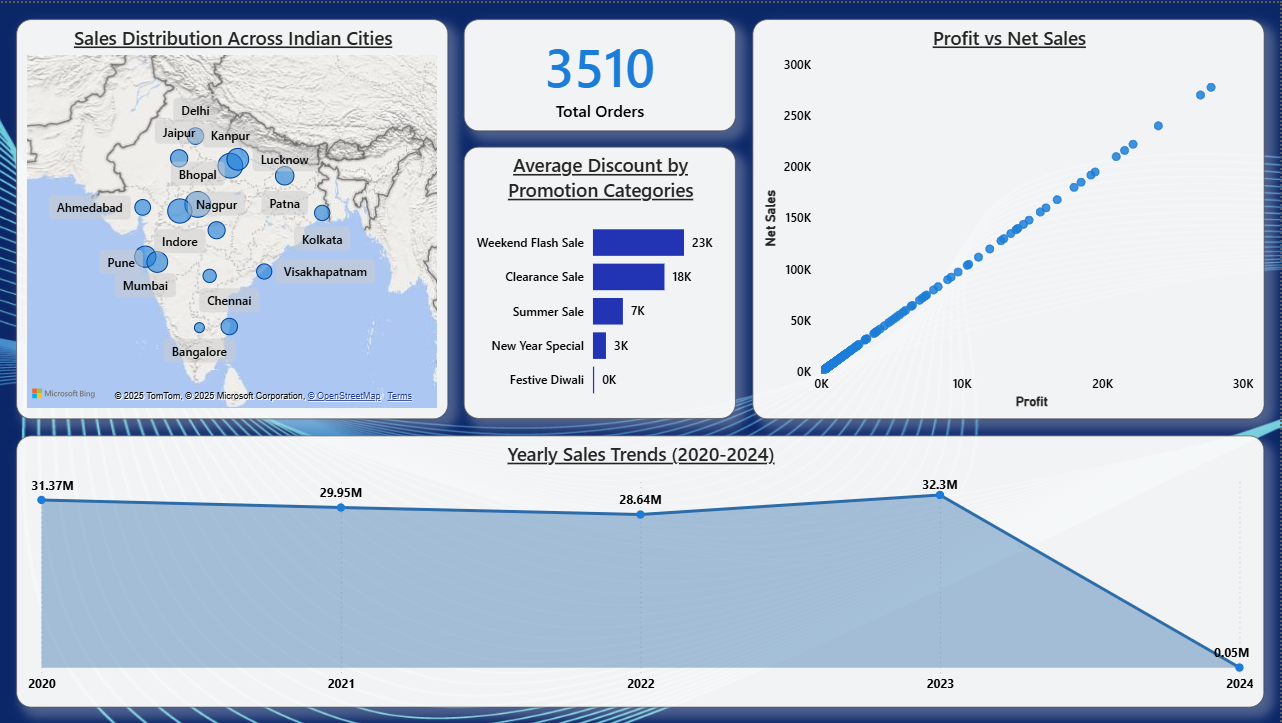

The dashboard page shown, as its layout file describes it:
{"tool":"powerbi","page":{"name":"Overview","canvas":[1280,720],"ordinal":0},"visuals":[{"type":"lineChart","title":"Yearly Sales Trends (2020-2024)","fields":{"Y":["Sum(Fact Table.Net Sales )"],"Category":["Fact Table.Date Hierarchy.Year","Fact Table.Date Hierarchy.Quater","Fact Table.Date Hierarchy.Month","Fact Table.Date Hierarchy.Day"]},"box":[16,432,1248,272],"z":0},{"type":"scatterChart","title":"Profit vs Net Sales ","fields":{"Y":["Fact Table.Net Sales "],"X":["Fact Table.Profit"]},"box":[752,16,512,400],"z":1000},{"type":"barChart","title":"Average Discount by Promotion Categories","fields":{"Y":["Avg(Fact Table.Discount Value)"],"Category":["Dim Promotion.Promotion Name"]},"box":[464,144,272,272],"z":2000},{"type":"map","title":"Sales Distribution Across Indian Cities","fields":{"Category":["Dim Customers.City"],"Size":["Sum(Fact Table.Net Sales )"]},"box":[16,16,432,400],"z":3000},{"type":"card","fields":{"Values":["Count(Fact Table.OrderID)"]},"box":[464,16,272,112],"z":4000}]}

Visuals, with their boxes in screenshot pixels (x1, y1, x2, y2), scaled from the page's 1280x720 canvas onto the 1282x723 screenshot:
"Yearly Sales Trends (2020-2024)" lineChart: bbox=(16, 434, 1266, 707)
"Profit vs Net Sales " scatterChart: bbox=(753, 16, 1266, 418)
"Average Discount by Promotion Categories" barChart: bbox=(465, 145, 737, 418)
"Sales Distribution Across Indian Cities" map: bbox=(16, 16, 449, 418)
card - Count(Fact Table.OrderID): bbox=(465, 16, 737, 129)
